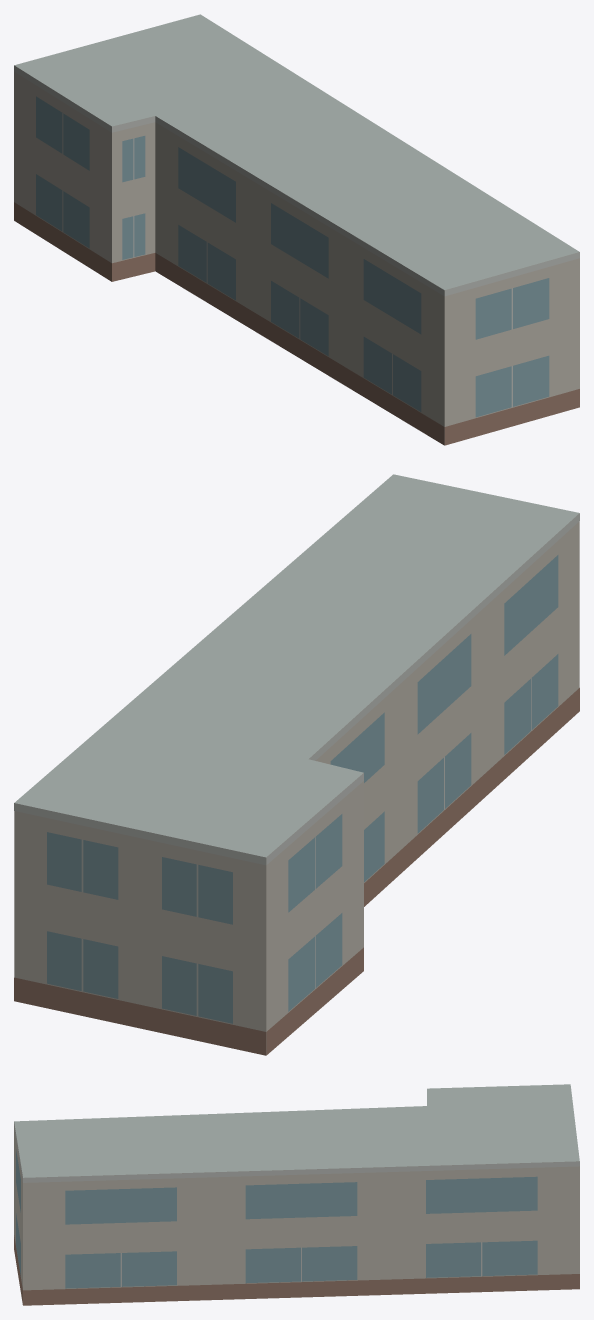
Rendered from survey-upis-32493949.glb.
The picture shows the model from 3 angles, top to bottom: view 1: azimuth 30°, elevation 25°; view 2: azimuth 150°, elevation 25°; view 3: azimuth 270°, elevation 25°; orthographic projection. The views are drawn at different scales.
Visible parts, largest first — view 1: survey-upis-32493949.tmp; view 2: survey-upis-32493949.tmp; view 3: survey-upis-32493949.tmp.
Boxes of the visible parts, bbox=[...] form: survey-upis-32493949.tmp: bbox=[14, 14, 579, 445]; survey-upis-32493949.tmp: bbox=[14, 474, 579, 1055]; survey-upis-32493949.tmp: bbox=[14, 1084, 579, 1305].
Size of the model in its own units: 9.59 by 6.1 by 24.48.
